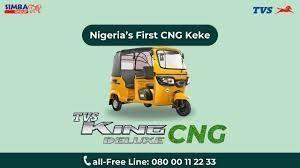keke: (107, 44, 190, 118)
